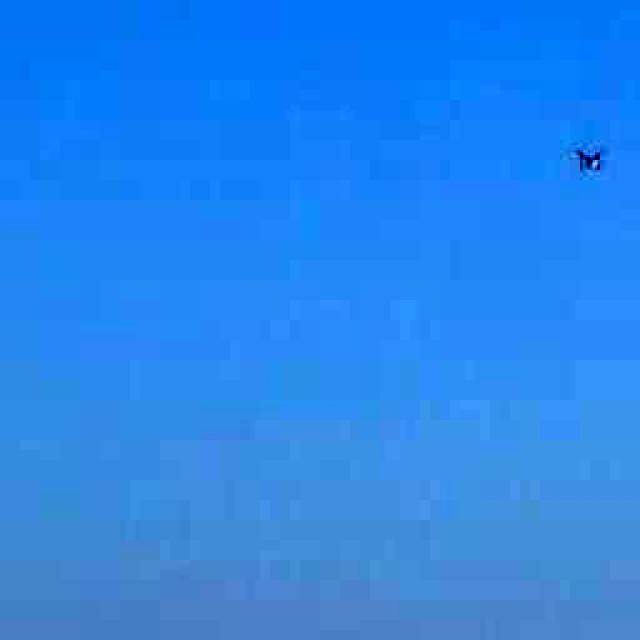bird: (555, 114, 622, 196)
